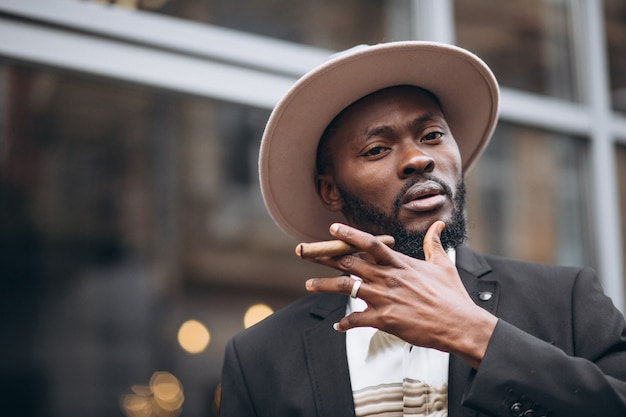cigarette: (295, 233, 398, 259)
